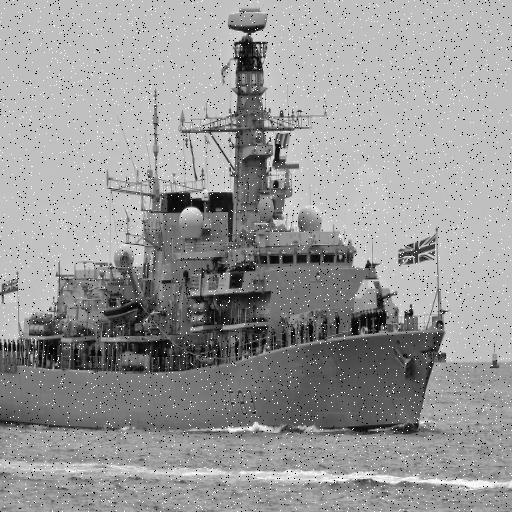Fragata: (1, 3, 459, 430)
